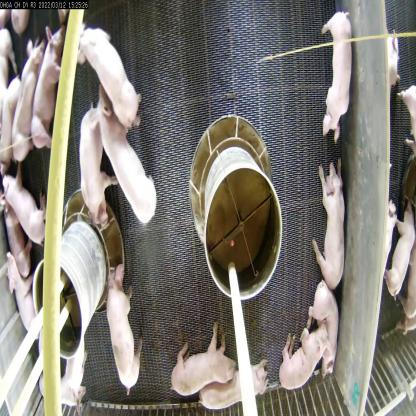Pig: (96, 91, 157, 225), (77, 14, 142, 126), (96, 267, 147, 394), (26, 27, 74, 152), (75, 102, 113, 227), (322, 14, 359, 138), (310, 169, 347, 292), (171, 326, 236, 395), (204, 356, 273, 416), (11, 35, 42, 166), (274, 322, 328, 396), (0, 167, 50, 241), (0, 256, 39, 346), (2, 184, 35, 286), (312, 281, 342, 369), (54, 342, 89, 409)
